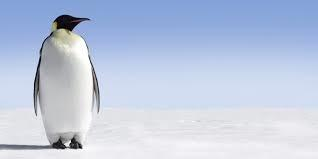emporer: (15, 8, 111, 150)
